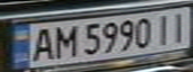0: (133, 15, 157, 48)
5: (78, 20, 103, 56)
9: (100, 19, 121, 54), (118, 17, 139, 52)
A: (27, 25, 57, 62)
I: (166, 8, 193, 44), (151, 11, 175, 45)
M: (51, 22, 81, 58)
